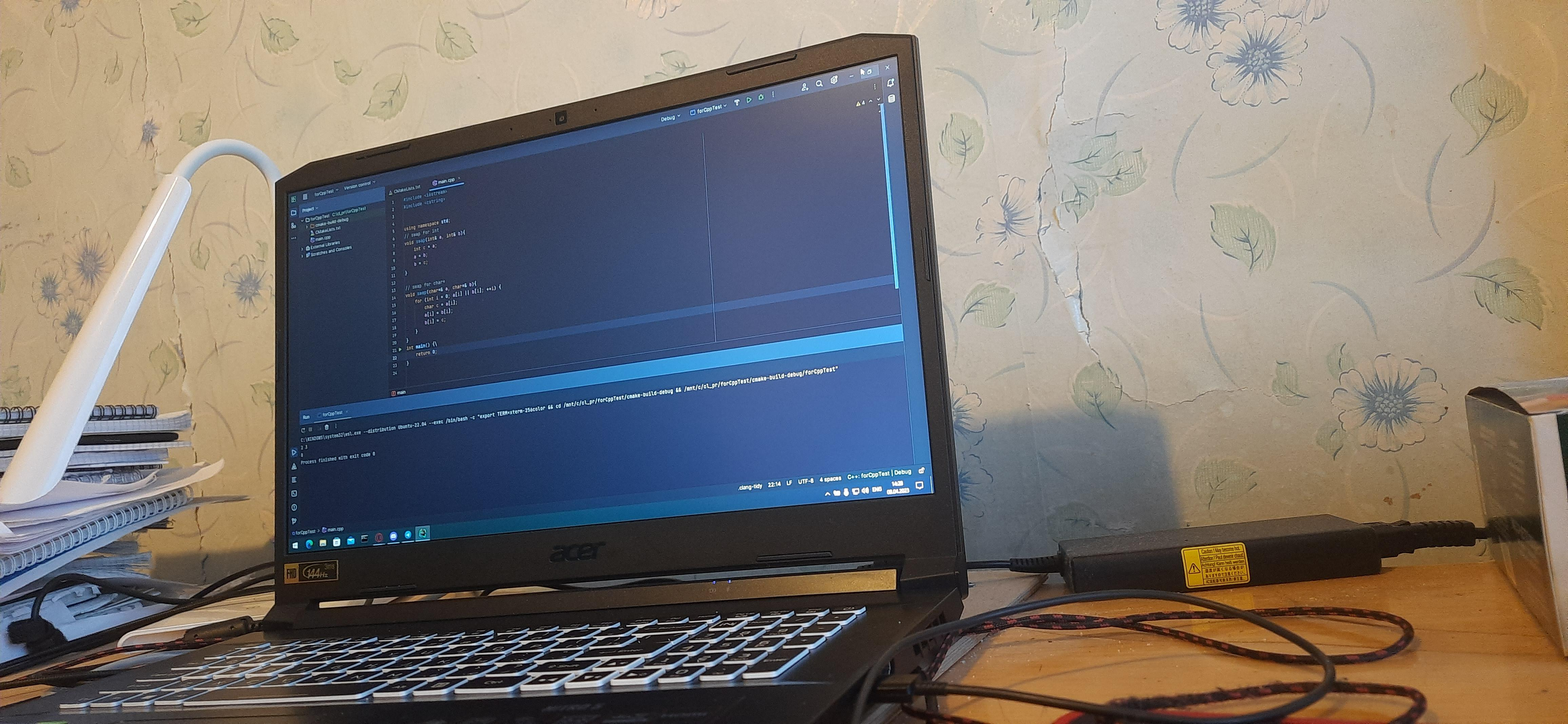monitor: (263, 29, 972, 598)
